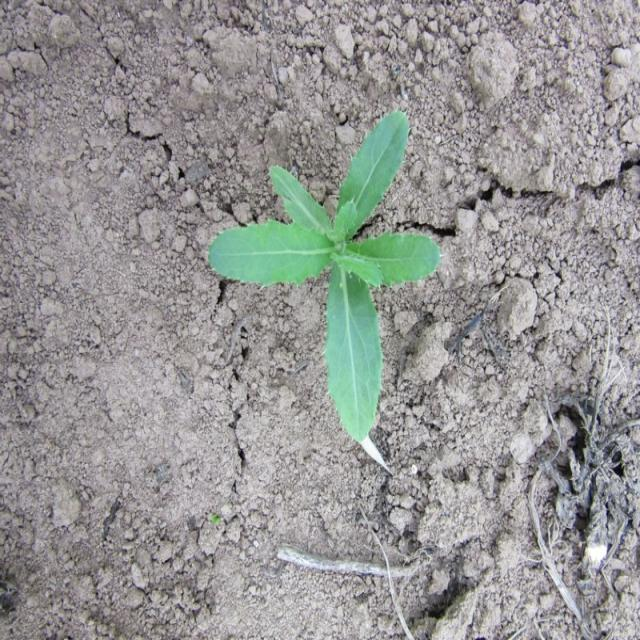field_thistle: (193, 92, 430, 442)
